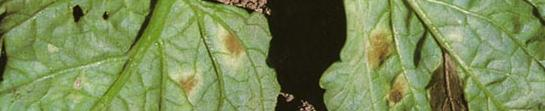Tomato mold leaf: (0, 0, 279, 111), (316, 0, 545, 111)
